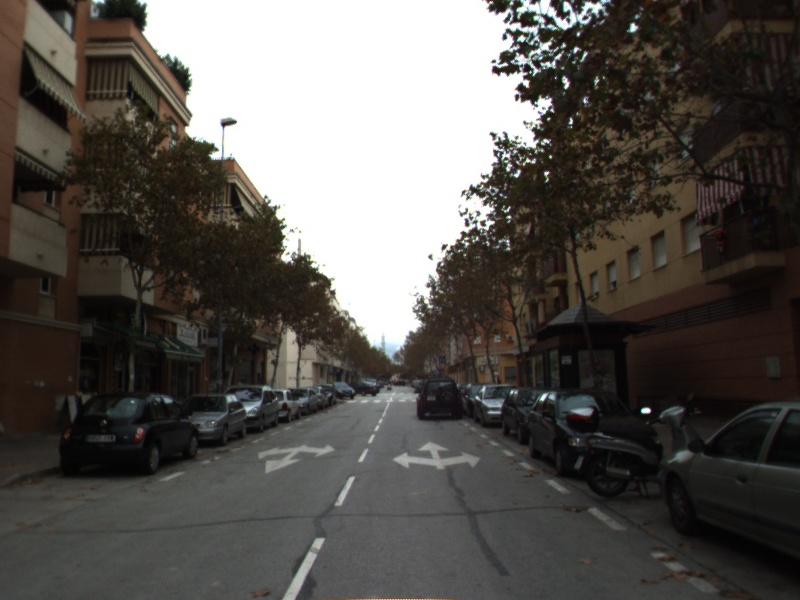STRAIGHT_LEFT_RIGHT: (391, 440, 483, 471)
